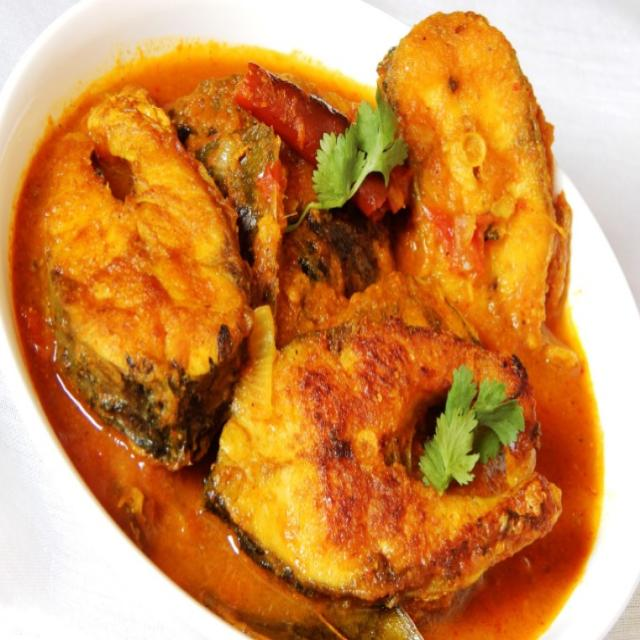FISH CURRY: (8, 13, 604, 639)
